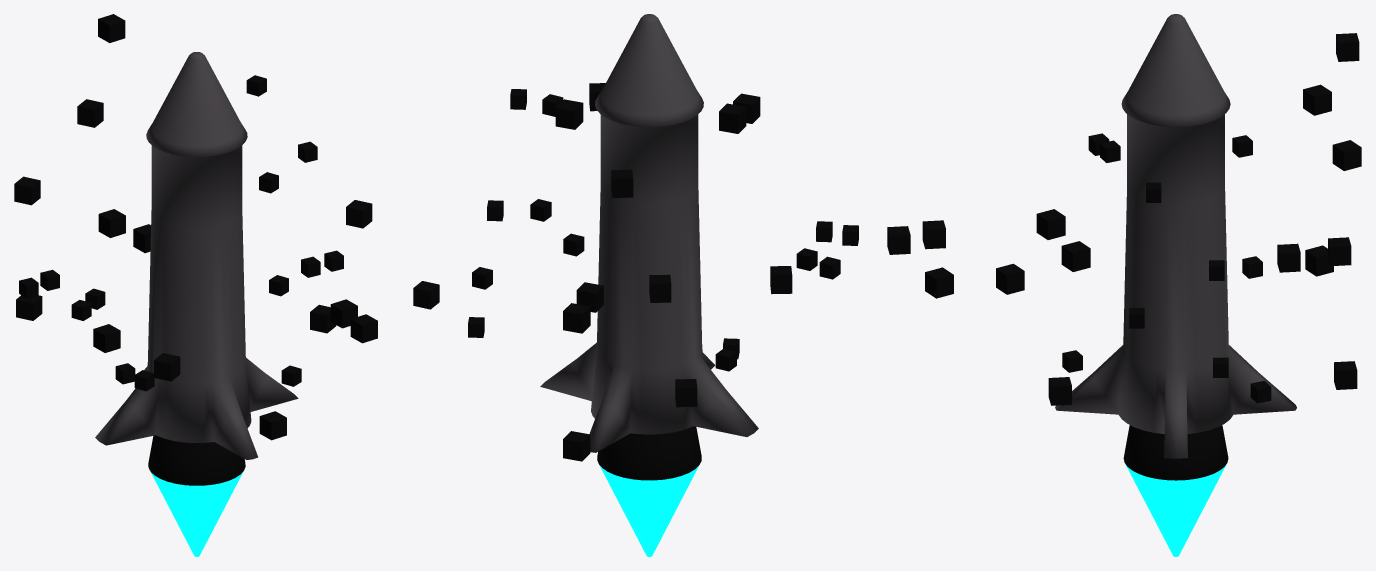
File: Rocket.fbx
The picture shows the model from 3 angles, left to right: view 1: azimuth 30°, elevation 25°; view 2: azimuth 150°, elevation 25°; view 3: azimuth 270°, elevation 25°; orthographic projection. The views are drawn at different scales.
Visible parts, largest first — view 1: Cylinder, Cube; view 2: Cylinder, Cube; view 3: Cylinder, Cube.
Part boxes in pixels (left/top/right/bottom): Cylinder: left=95, top=52, right=298, bottom=556; Cube: left=14, top=14, right=439, bottom=440; Cylinder: left=540, top=14, right=758, bottom=556; Cube: left=468, top=83, right=858, bottom=461; Cylinder: left=1055, top=14, right=1296, bottom=556; Cube: left=887, top=33, right=1361, bottom=405.
Bounding box in the file's own units: 799 × 1218 × 970.
